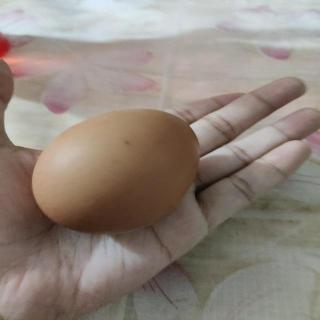Telur: (32, 109, 204, 235)
